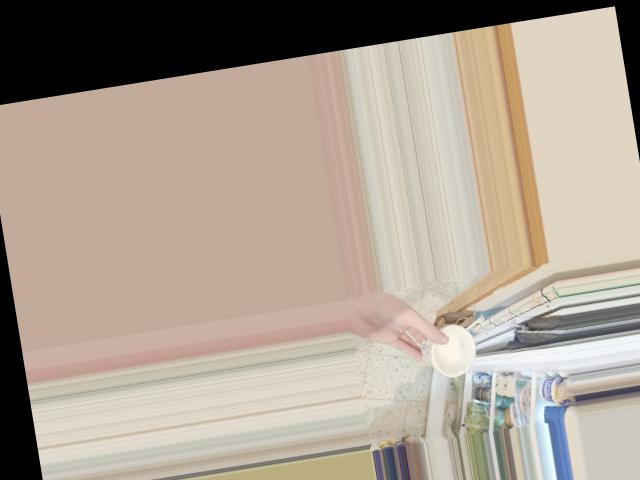cotage: (417, 318, 480, 372)
